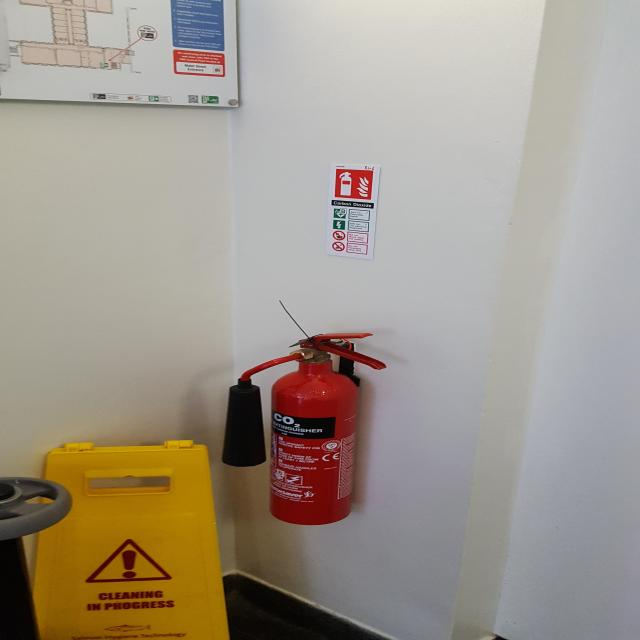fire_extinguisher: (218, 329, 394, 527)
